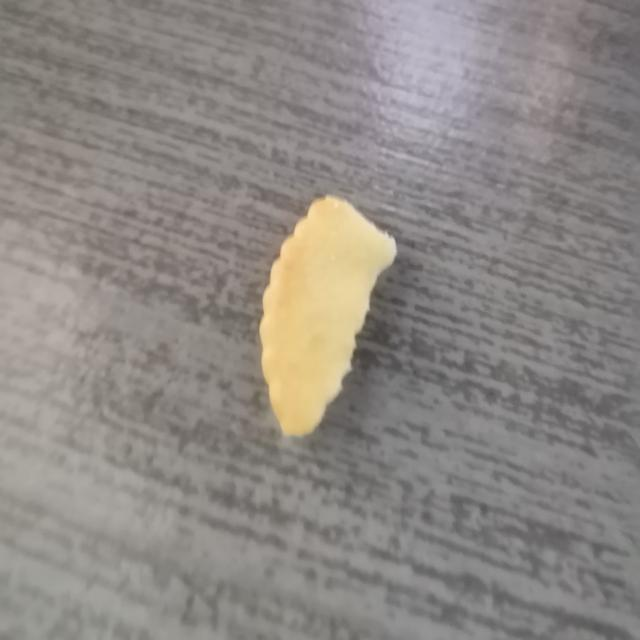Broken: (258, 194, 397, 438)
